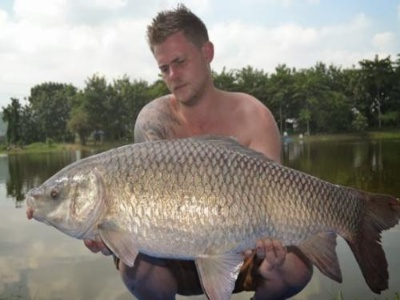rohu: (27, 138, 400, 293)
